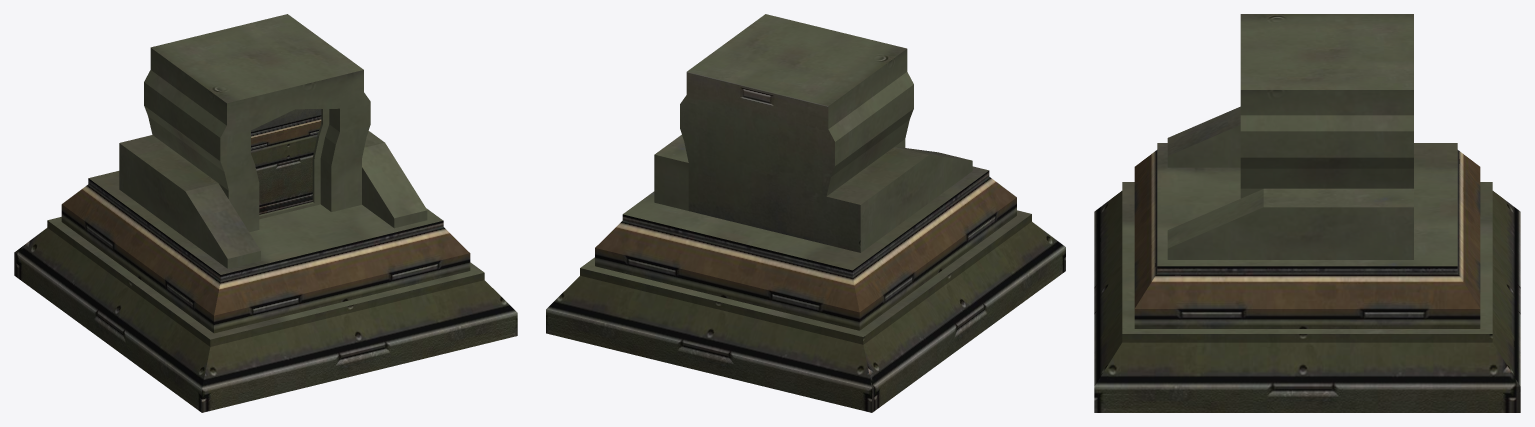
Rendered from rep_temple.dae.
The picture shows the model from 3 angles, left to right: view 1: azimuth 30°, elevation 25°; view 2: azimuth 150°, elevation 25°; view 3: azimuth 270°, elevation 25°; orthographic projection. The views are drawn at different scales.
Visible parts, largest first — view 1: temple; view 2: temple; view 3: temple.
Part boxes in pixels (bbox=[...]): temple: bbox=[14, 14, 517, 412]; temple: bbox=[546, 14, 1065, 412]; temple: bbox=[1094, 14, 1520, 412].
Size of the model in its own units: 38.1 by 39.22 by 27.78.
